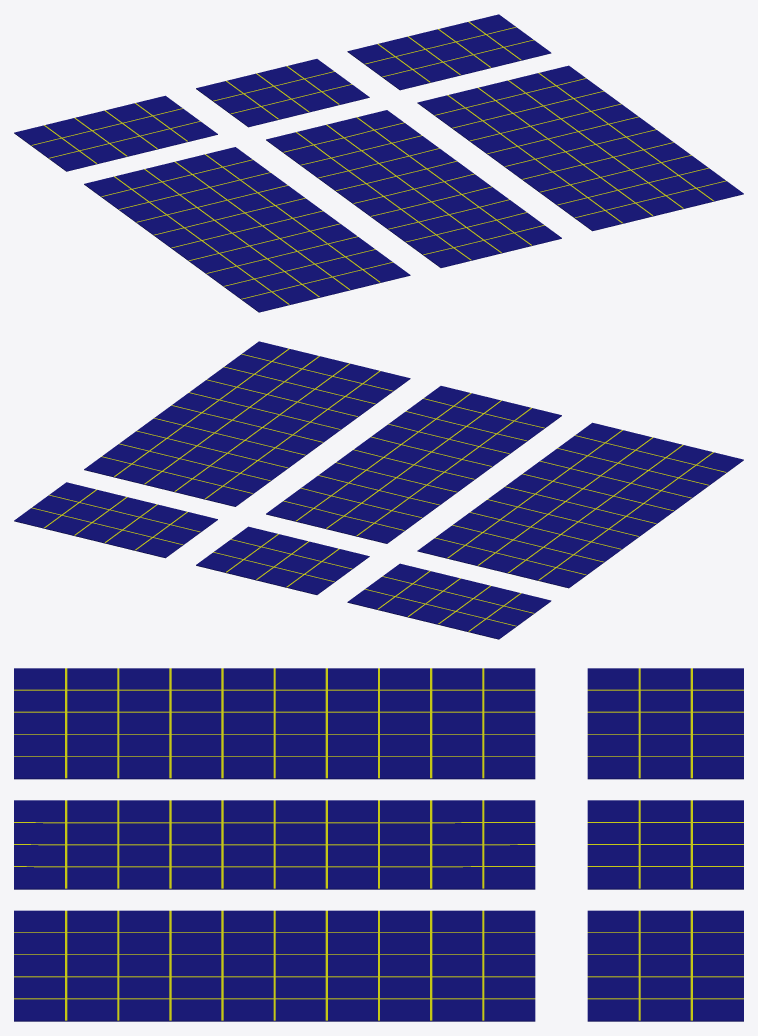
Rendered from asphalt_new.FBX.
3 renders of one model, top to bottom at view 1: azimuth 30°, elevation 25°; view 2: azimuth 150°, elevation 25°; view 3: azimuth 270°, elevation 25°, orthographic. The views are drawn at different scales.
Parts seen in each view (by area): view 1: Object021; view 2: Object021; view 3: Object021.
Part boxes in pixels (x1,y1,x2,y2): Object021: [14, 14, 743, 312]; Object021: [14, 341, 743, 639]; Object021: [14, 668, 743, 1021].
Size of the model in its own units: 3690 by 4.92 by 3229.
